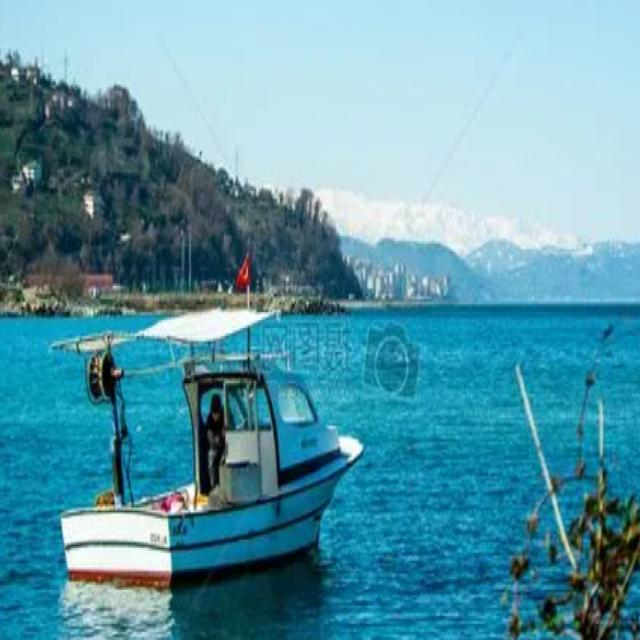houseboat: (62, 326, 361, 591)
